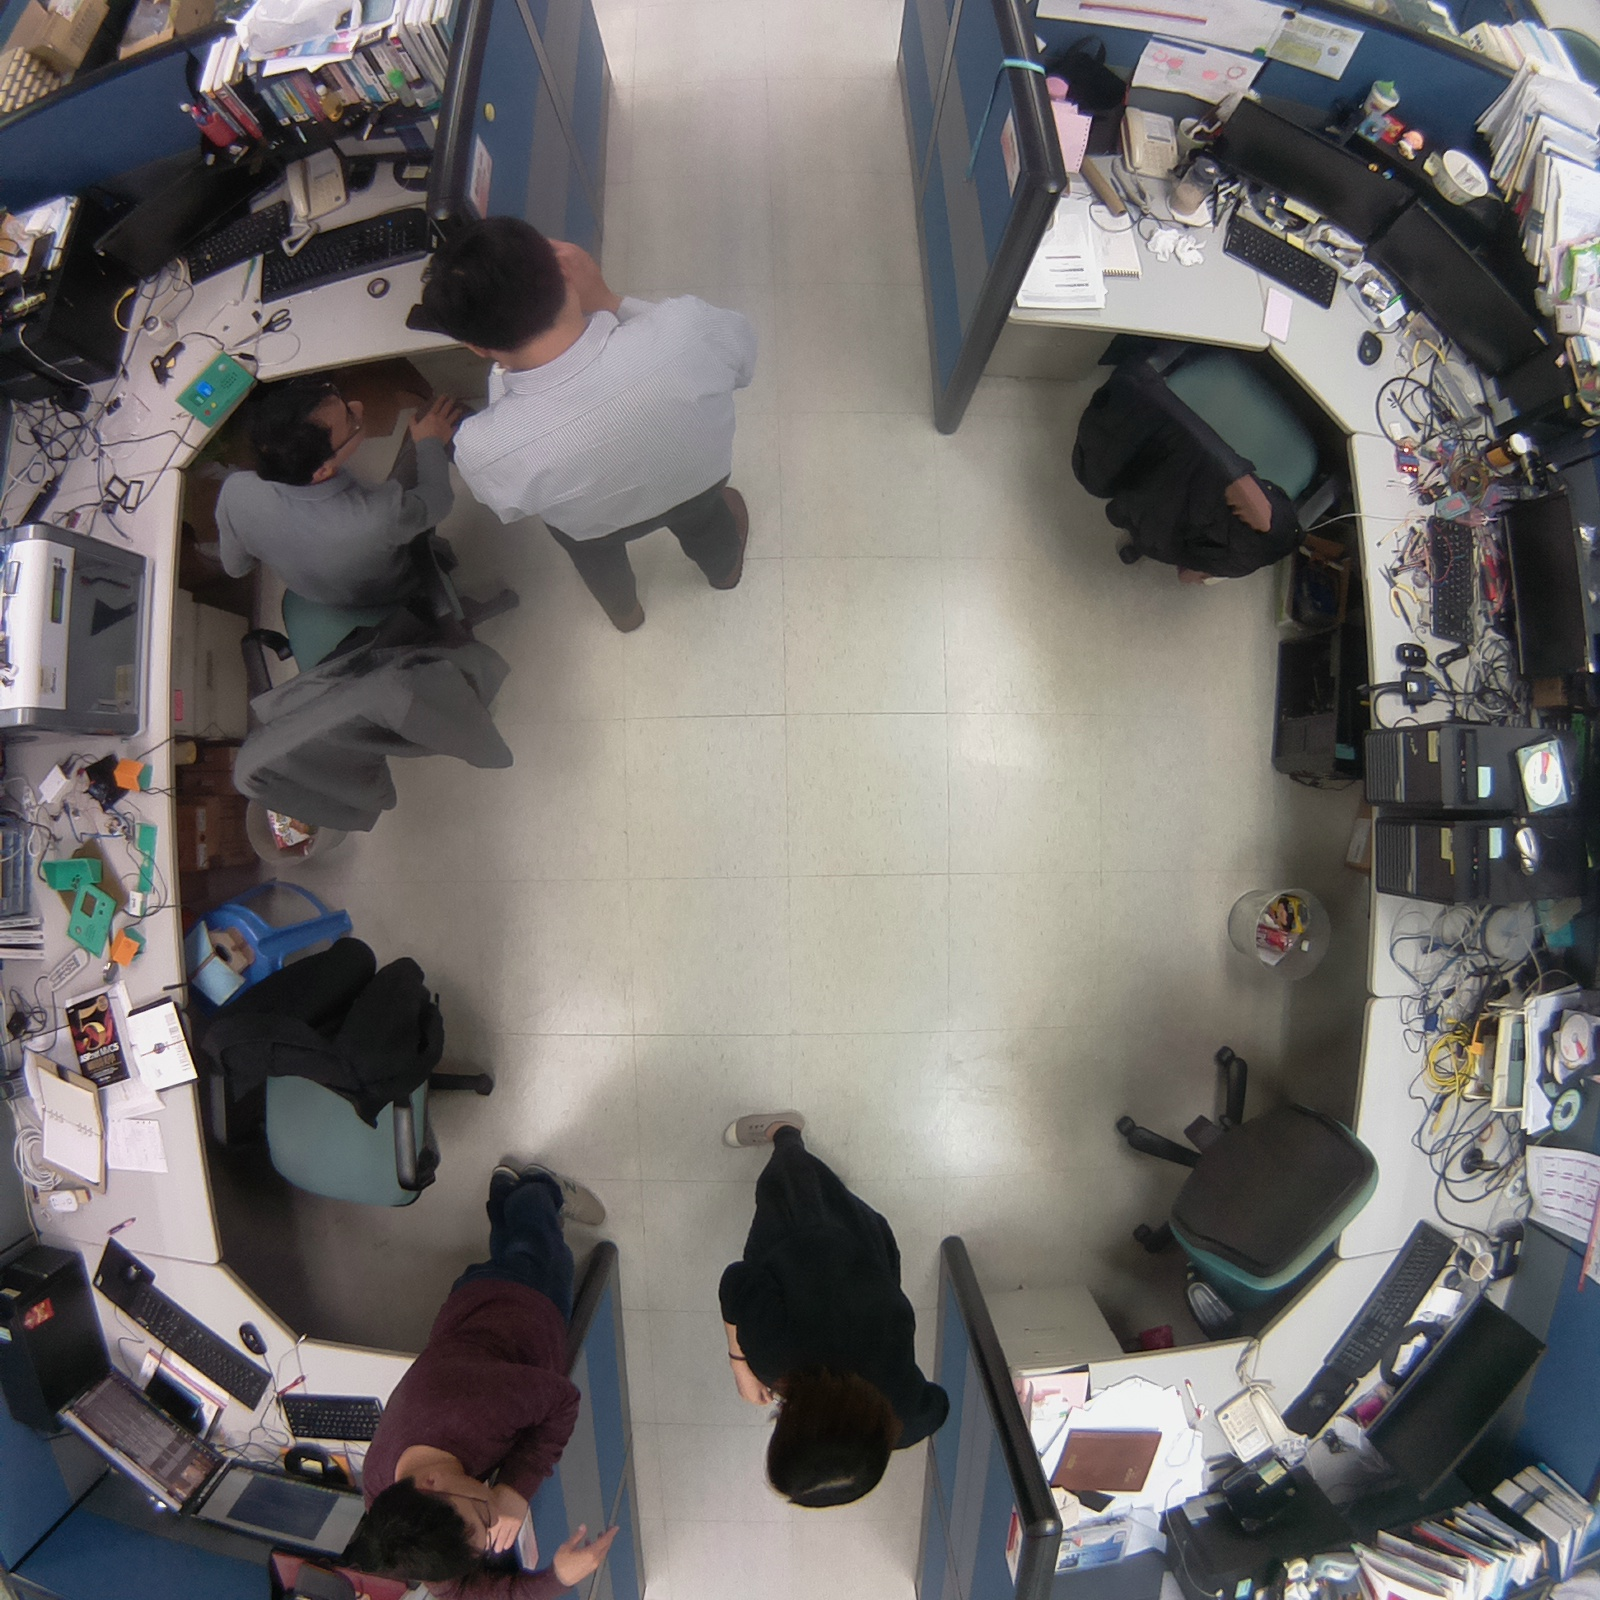chair: (186, 917, 522, 1229), (1088, 1022, 1391, 1342), (1060, 319, 1370, 604)
head: (336, 1463, 520, 1600), (415, 217, 572, 365), (759, 1372, 895, 1523), (238, 363, 368, 504)
sitting: (204, 369, 547, 855)
standing: (408, 218, 768, 644), (341, 1146, 628, 1600), (710, 1101, 961, 1520)
